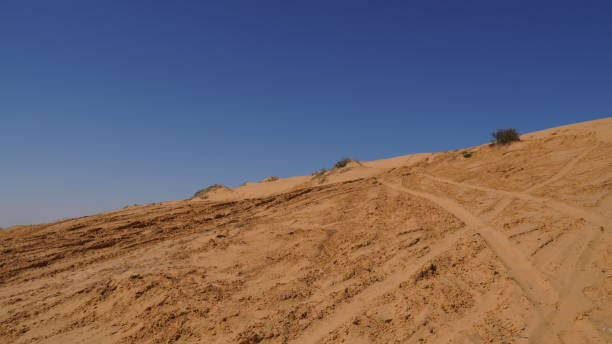vehicle_track: (385, 183, 558, 332), (383, 183, 558, 327), (291, 226, 470, 343), (385, 183, 556, 304), (425, 147, 609, 228), (424, 146, 611, 225), (425, 175, 611, 228), (424, 174, 611, 225), (529, 228, 603, 343), (435, 289, 509, 343), (523, 146, 598, 192), (479, 197, 512, 221)
